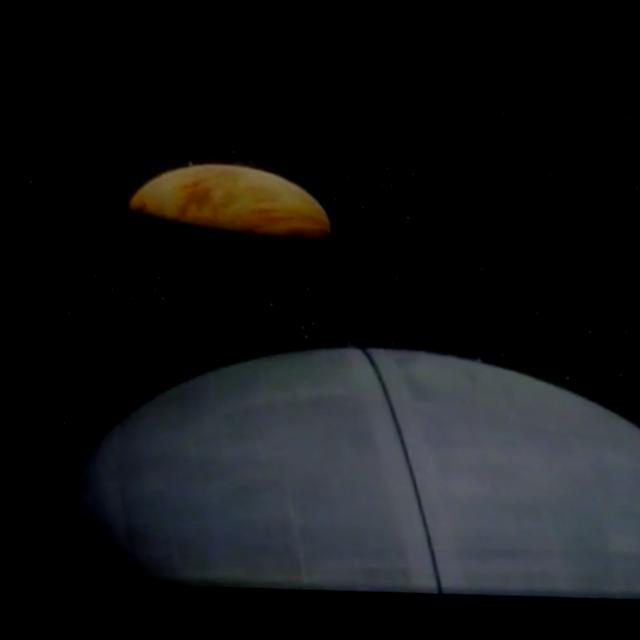deathStar: (38, 336, 640, 596)
